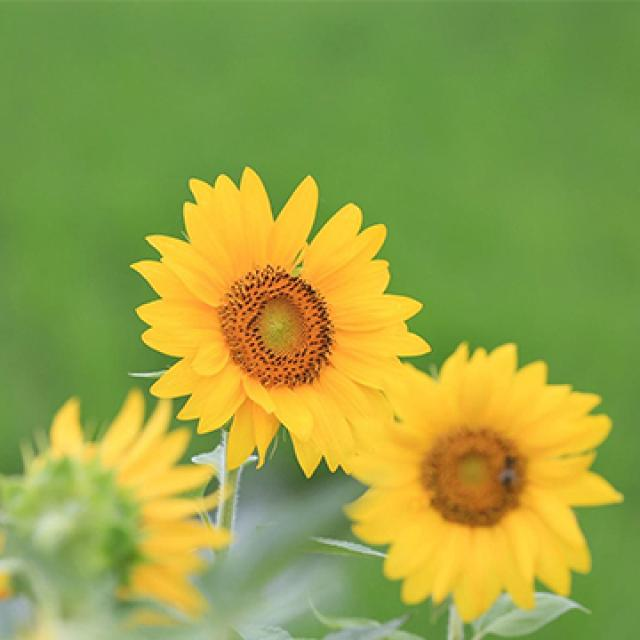sunflower: (128, 158, 432, 487), (330, 330, 628, 628)
